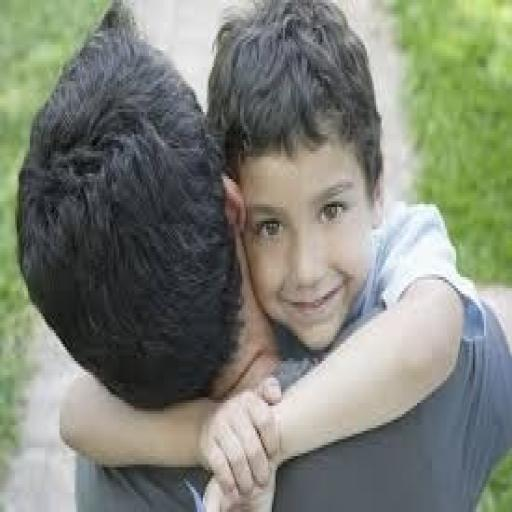hugging: (15, 0, 510, 509)
